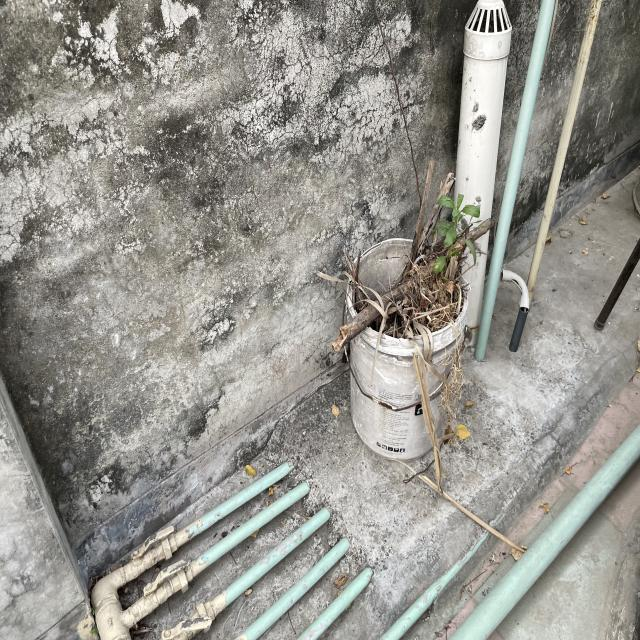Breeding Place: (354, 238, 456, 458)
